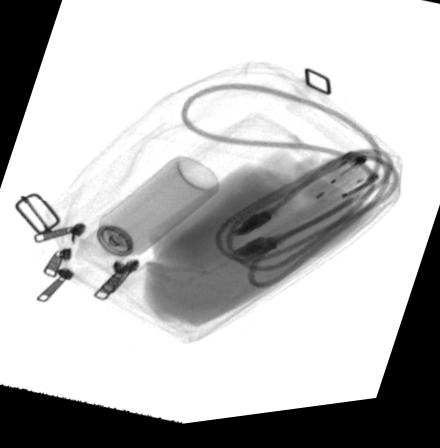Lighter: (298, 159, 369, 211)
Sprayer: (75, 160, 219, 276)
